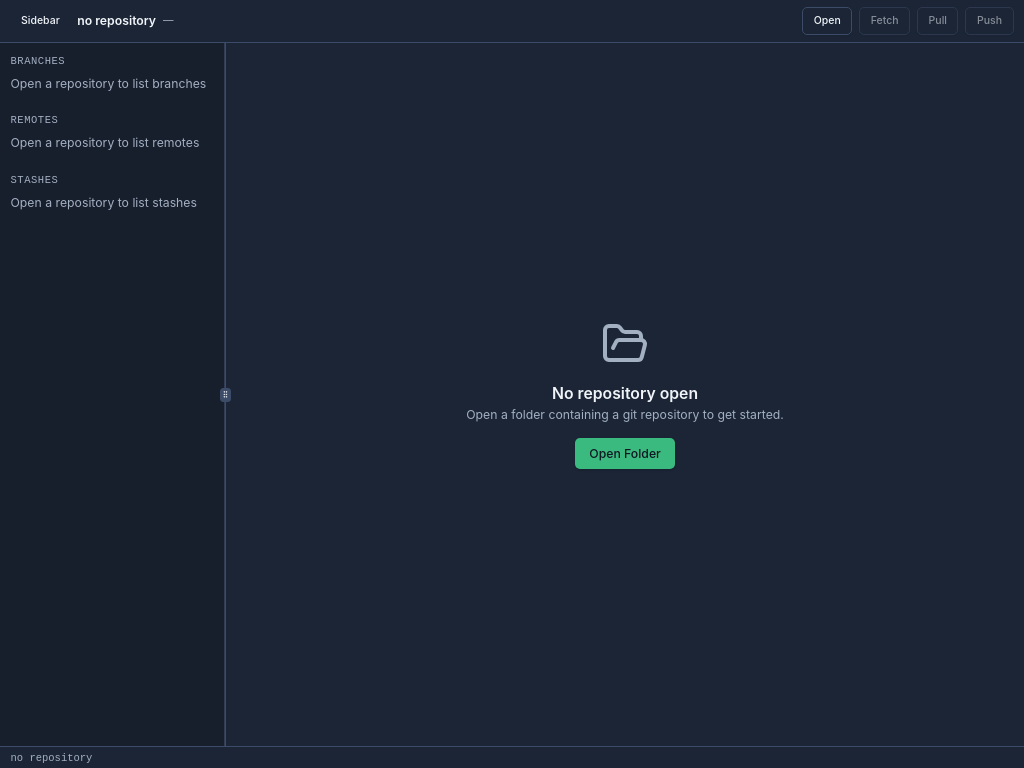
Test case: App shell › opens the selected repository through the CTA and swaps in the main tabs
Click the button "Open Folder".
click(625, 454)  # box [575,438,675,469]
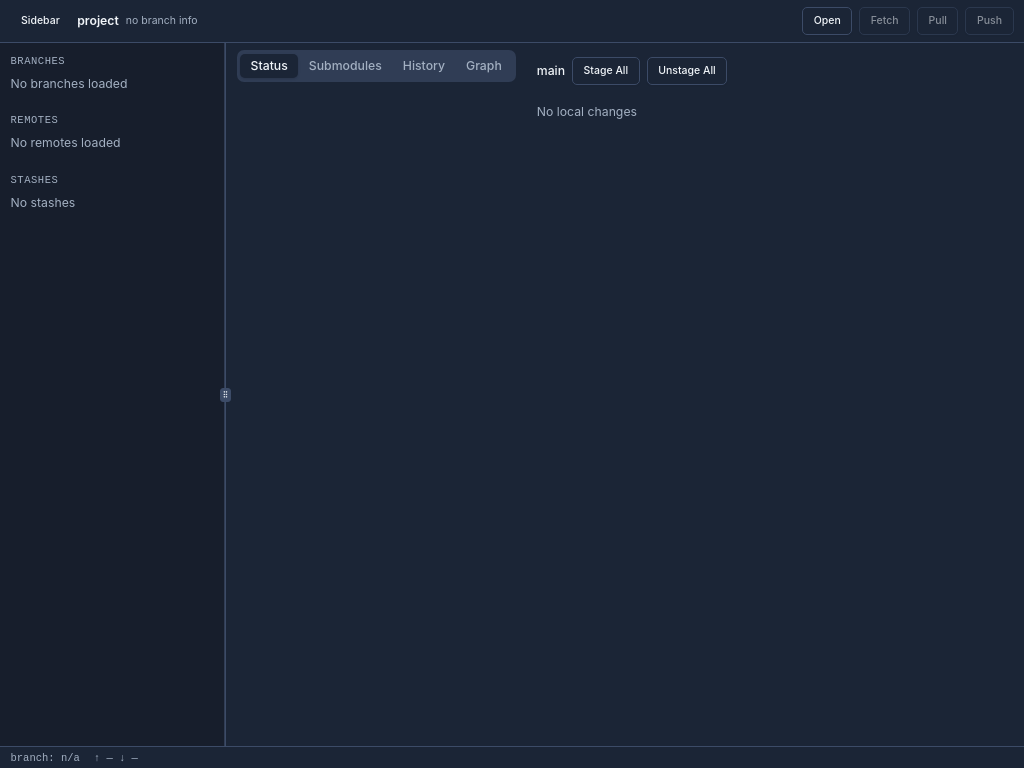
expect the element with test id "staging-view" is shown: met, box [537,57,727,118]
expect the heading "project" is shown: met, box [77,12,119,30]
expect the text with test id "branch-indicator" reads "no branch info": met, box [126,14,198,27]
